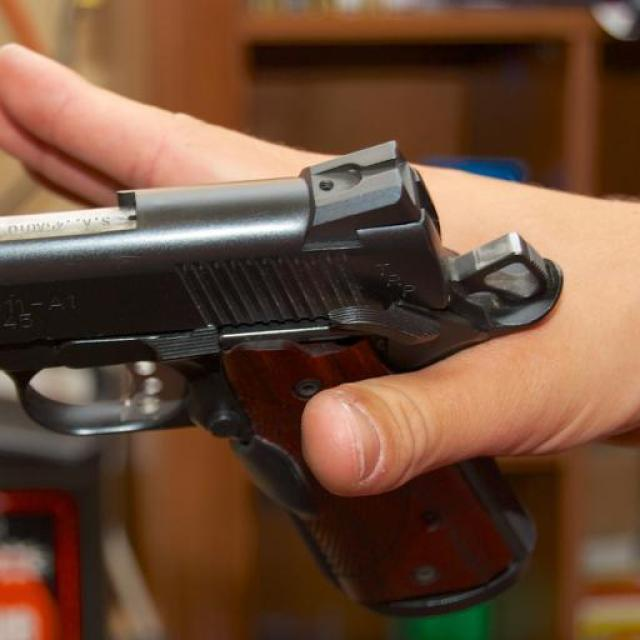pistol: (1, 136, 559, 605)
